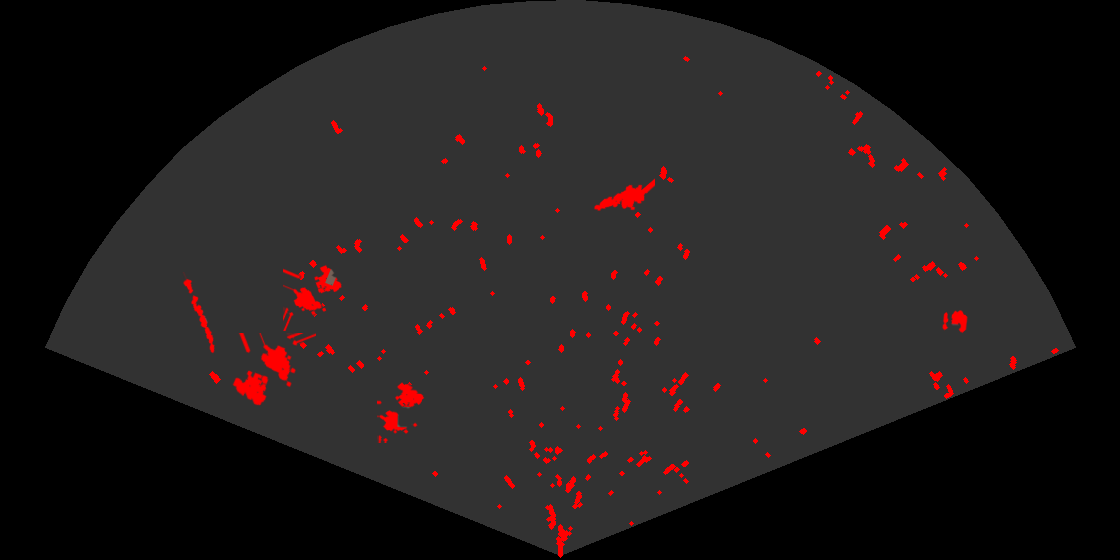ball: (941, 309, 969, 335)
cage: (231, 333, 316, 407), (283, 263, 343, 331), (377, 381, 426, 443)
chain: (181, 272, 216, 355)
frogman: (592, 177, 655, 213)
